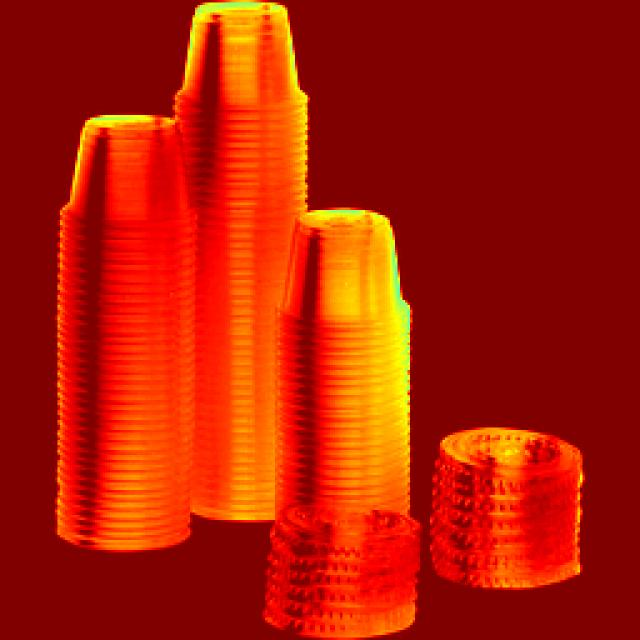Paper Cups: (37, 5, 458, 635)
